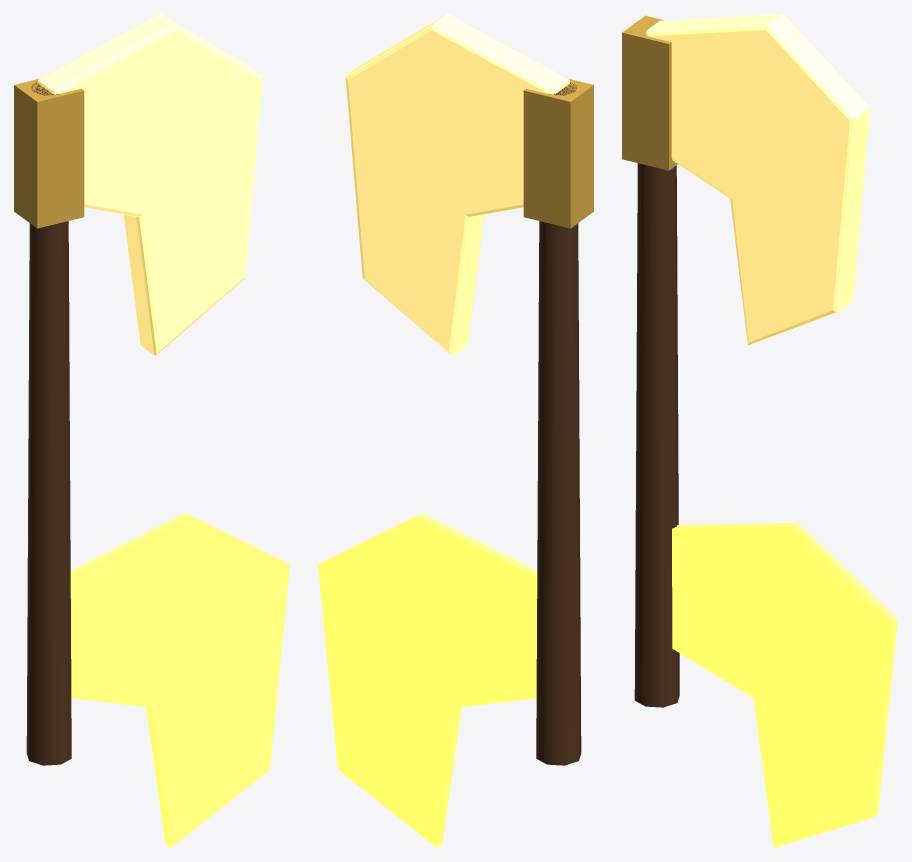
Rendered from axe_f1_e8a77b23.glb.
3 views of the same model, side by side, from view 1: azimuth 30°, elevation 25°; view 2: azimuth 150°, elevation 25°; view 3: azimuth 330°, elevation 25° (orthographic).
Visible parts, largest first — view 1: m1_gm110_, m2_ow80_, m0_ow80_, m3_ow80_; view 2: m1_gm110_, m2_ow80_, m0_ow80_, m3_ow80_; view 3: m1_gm110_, m2_ow80_, m0_ow80_, m3_ow80_.
Boxes of the visible parts, bbox=[...] form: m1_gm110_: bbox=[70, 513, 289, 847]; m2_ow80_: bbox=[38, 14, 262, 355]; m0_ow80_: bbox=[26, 82, 71, 765]; m3_ow80_: bbox=[14, 78, 84, 228]; m1_gm110_: bbox=[318, 513, 537, 847]; m2_ow80_: bbox=[345, 14, 569, 355]; m0_ow80_: bbox=[536, 82, 581, 765]; m3_ow80_: bbox=[523, 78, 593, 228]; m1_gm110_: bbox=[672, 523, 897, 847]; m2_ow80_: bbox=[646, 14, 870, 345]; m0_ow80_: bbox=[634, 24, 679, 707]; m3_ow80_: bbox=[622, 15, 677, 170].
Bounding box in the file's own units: 0.778 × 2.35 × 0.12.
